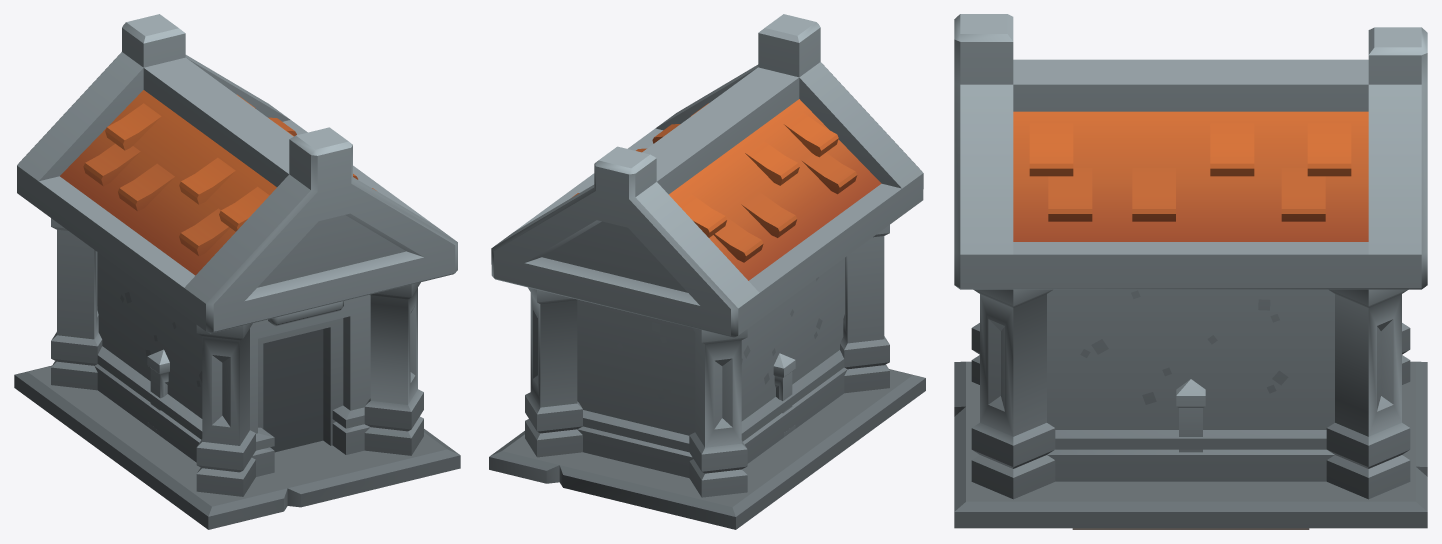
The model's file is env.glb.
3 views of the same model, side by side, from view 1: azimuth 30°, elevation 25°; view 2: azimuth 150°, elevation 25°; view 3: azimuth 270°, elevation 25° (orthographic). The views are drawn at different scales.
Visible parts, largest first — view 1: crypt, fence; view 2: crypt, fence; view 3: crypt, fence.
Boxes of the visible parts, box(x1,y1,x2,y2) form: crypt: box(14, 14, 460, 529); fence: box(147, 349, 169, 435); crypt: box(489, 14, 925, 529); fence: box(773, 353, 795, 436); crypt: box(954, 14, 1427, 528); fence: box(1176, 379, 1205, 452).
Bounding box in the file's own units: 6 × 8.5 × 8.
Materials: 1 (1 with a texture image).
